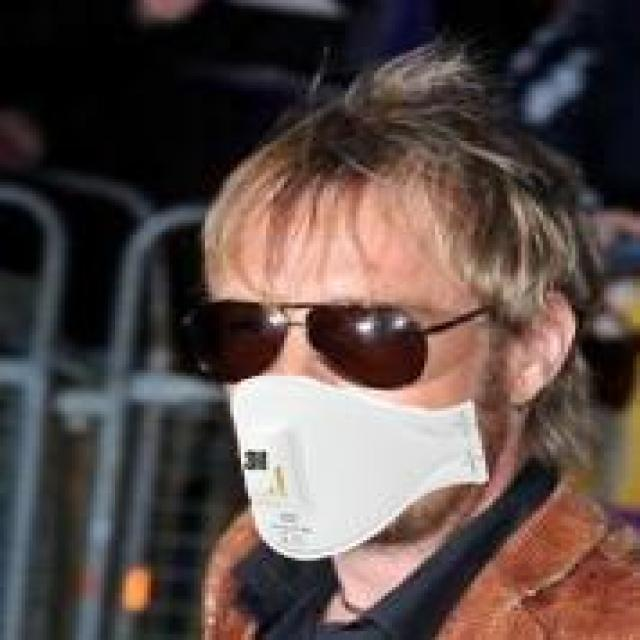mask: (147, 94, 579, 569)
